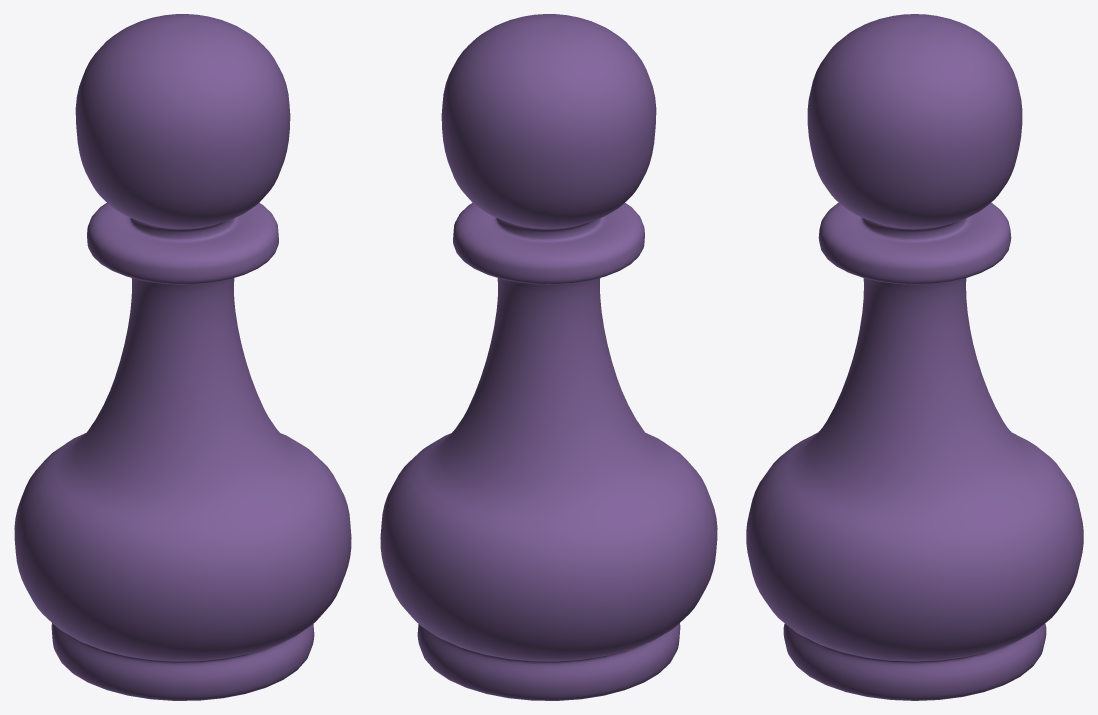
The model's file is Pawn_Purple.fbx.
3 renders of one model, left to right at view 1: azimuth 30°, elevation 25°; view 2: azimuth 150°, elevation 25°; view 3: azimuth 270°, elevation 25°, orthographic.
Visible parts, largest first — view 1: Pawn_Purple; view 2: Pawn_Purple; view 3: Pawn_Purple.
Part boxes in pixels (left/top/right/bottom): Pawn_Purple: left=14, top=14, right=351, bottom=700; Pawn_Purple: left=380, top=14, right=717, bottom=700; Pawn_Purple: left=746, top=14, right=1083, bottom=700.
Bounding box in the file's own units: 0.2641 × 0.5369 × 0.2641.
Materials: 1 (1 with a texture image).
